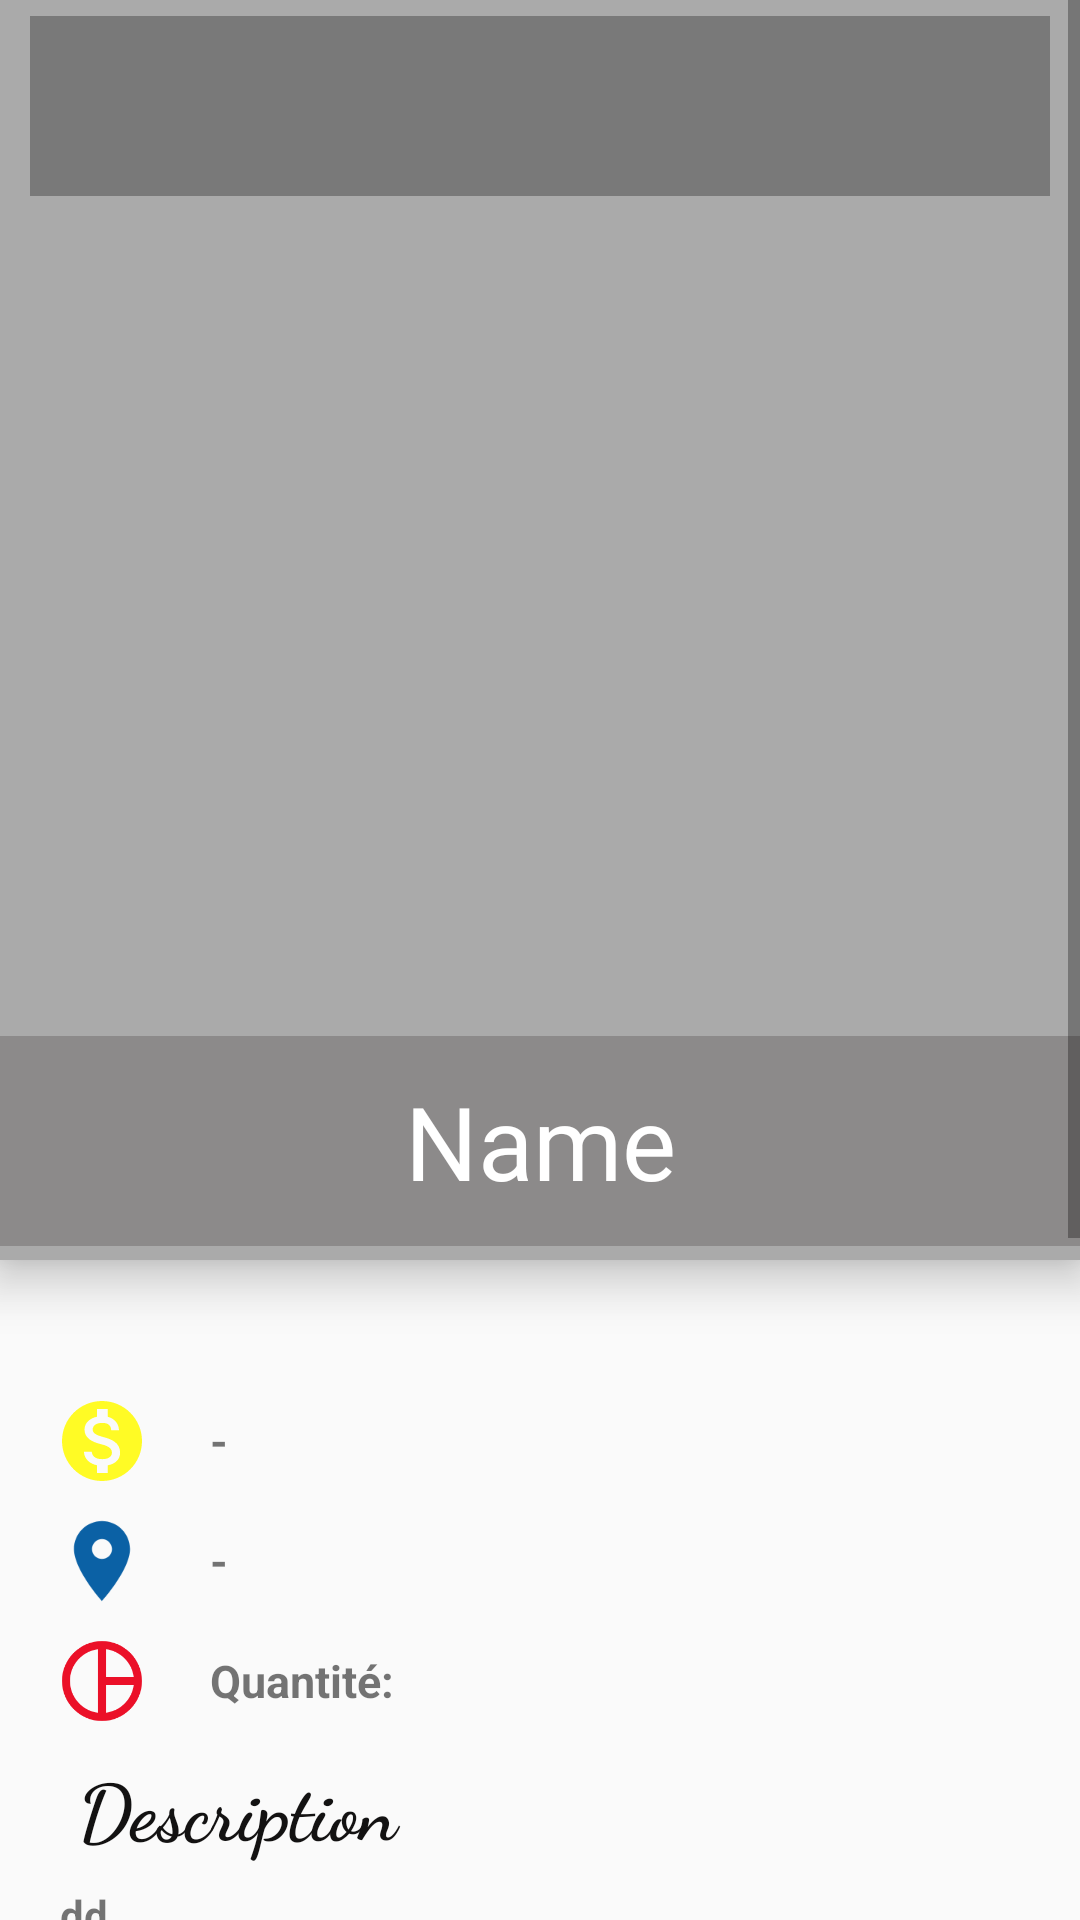

Icons on this 1080 x 1920 Android screen, each with the point to tap as (x,y):
mony: (102,1441)
place: (102,1560)
